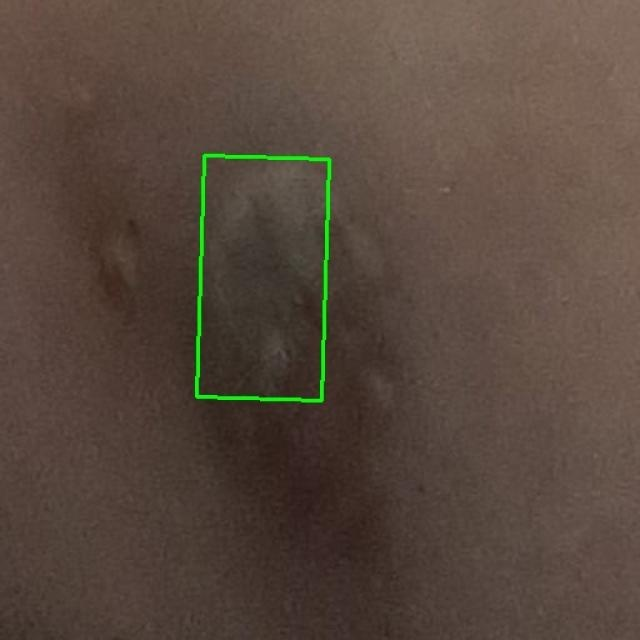Eczema: (197, 156, 330, 401)
